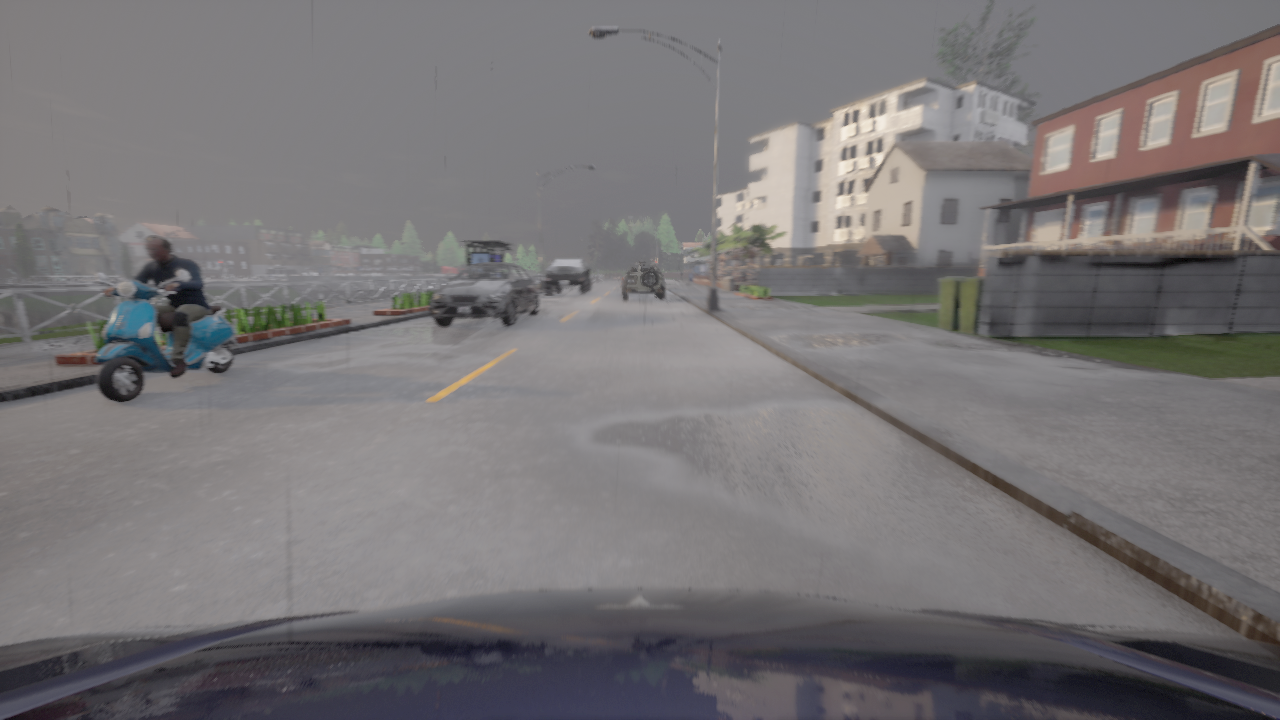cyclist: (0, 588, 1279, 719), (94, 269, 237, 402), (429, 263, 539, 325), (621, 259, 664, 300), (544, 258, 591, 294)
